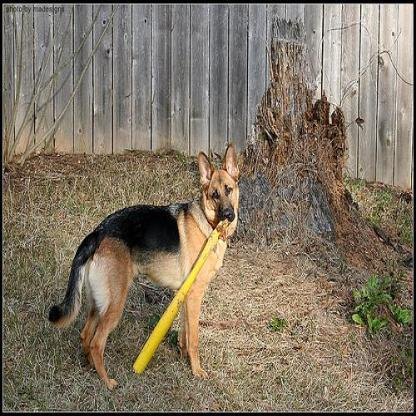dog: (48, 142, 245, 390)
